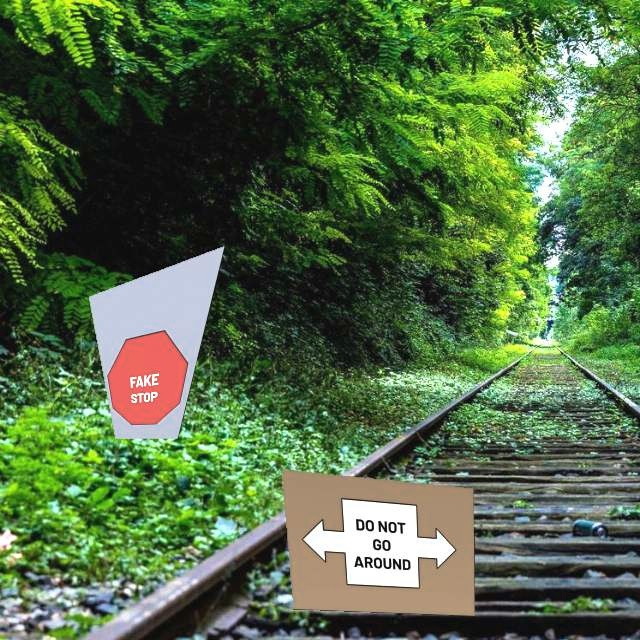DO_NOT_GO_AROUND: (296, 494, 460, 590)
FAKE_STOP: (102, 322, 197, 426)
